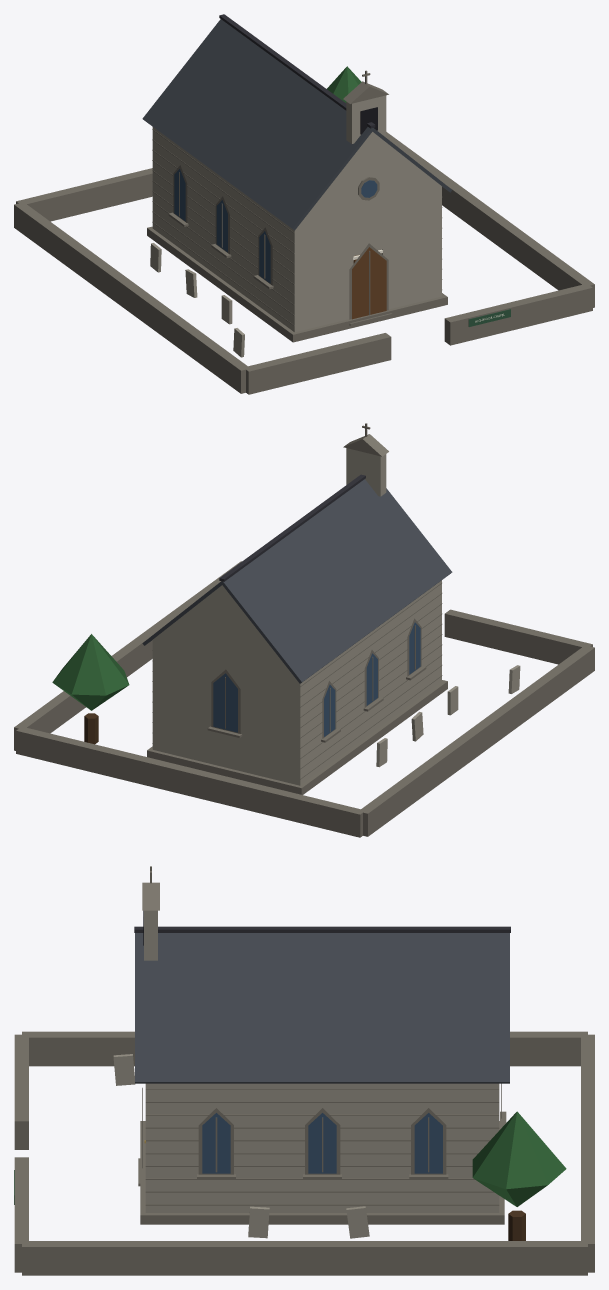
The model's file is village.chapel.glb.
The picture shows the model from 3 angles, top to bottom: view 1: azimuth 30°, elevation 25°; view 2: azimuth 150°, elevation 25°; view 3: azimuth 270°, elevation 25°; orthographic projection. The views are drawn at different scales.
Parts seen in each view (by area): view 1: roof-l, w-side-1, yard-side-1, w-front-l, w-front-r, roof-gable1, yard-side1, yard-front-1, yard-front1, yard-back, plinth, door-arch-glass (+6 smaller); view 2: roof-l, w-back, w-side-1, yard-back, yard-side-1, roof-gable-1, yard-front-1, plinth, yard-side1, yew-u, bellcote, win-back-glass (+2 smaller); view 3: roof-r, w-side1, yard-side1, yard-side-1, plinth, yew-u, yard-back, roof-ridge, yard-front-1, win3.01-glass, win-3.01-glass, win0.01-glass (+16 smaller).
Part boxes in pixels (x1,y1,x2,y2): roof-l: (142, 19, 374, 230); w-side-1: (156, 129, 290, 329); yard-side-1: (14, 202, 250, 393); w-front-l: (291, 210, 353, 332); w-front-r: (380, 188, 441, 309); roof-gable1: (301, 137, 441, 224); yard-side1: (384, 132, 594, 307); yard-front-1: (246, 333, 391, 394); yard-front1: (444, 283, 592, 345); yard-back: (16, 168, 152, 221); plinth: (147, 226, 447, 342); door-arch-glass: (352, 247, 386, 319); roof-l: (220, 479, 452, 683); w-back: (152, 642, 303, 785); w-side-1: (303, 583, 438, 782); yard-back: (16, 726, 365, 837); yard-side-1: (360, 646, 594, 836); roof-gable-1: (152, 585, 299, 684); yard-front-1: (444, 609, 592, 664); plinth: (147, 680, 447, 794); yard-side1: (14, 561, 241, 750); yew-u: (52, 634, 129, 695); bellcote: (346, 448, 386, 496); win-back-glass: (213, 673, 237, 732); roof-r: (135, 933, 509, 1083); w-side1: (154, 1083, 490, 1212); yard-side1: (22, 1241, 587, 1275); yard-side-1: (22, 1031, 587, 1066); plinth: (140, 1121, 504, 1224); yew-u: (472, 1111, 566, 1189); yard-back: (581, 1034, 594, 1272); roof-ridge: (134, 926, 510, 932); yard-front-1: (14, 1034, 28, 1149); win3.01-glass: (202, 1113, 230, 1173); win-3.01-glass: (414, 1113, 442, 1173); win0.01-glass: (308, 1113, 336, 1173).
Bounding box in the file's own units: 14.4 × 9.7 × 16.42.
